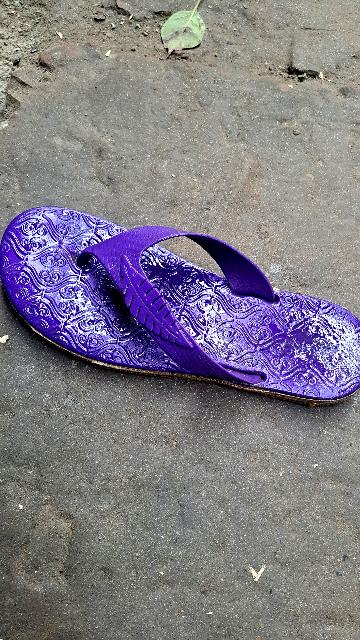sandal: (0, 167, 360, 429)
